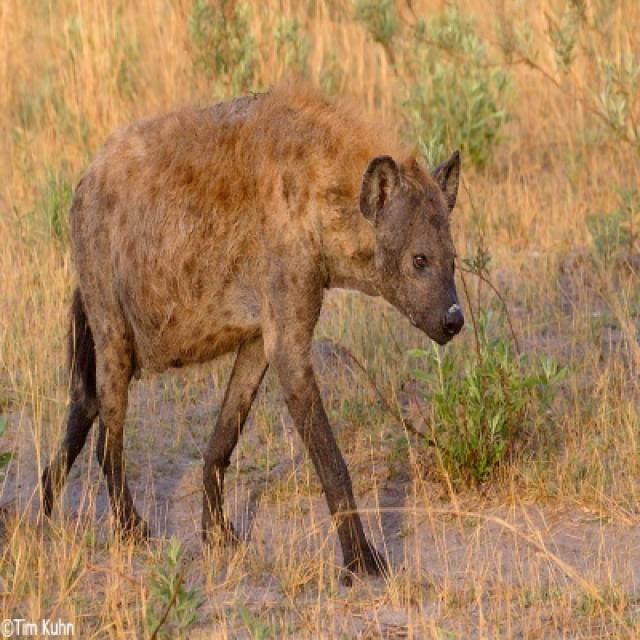hyena: (42, 82, 464, 579)
